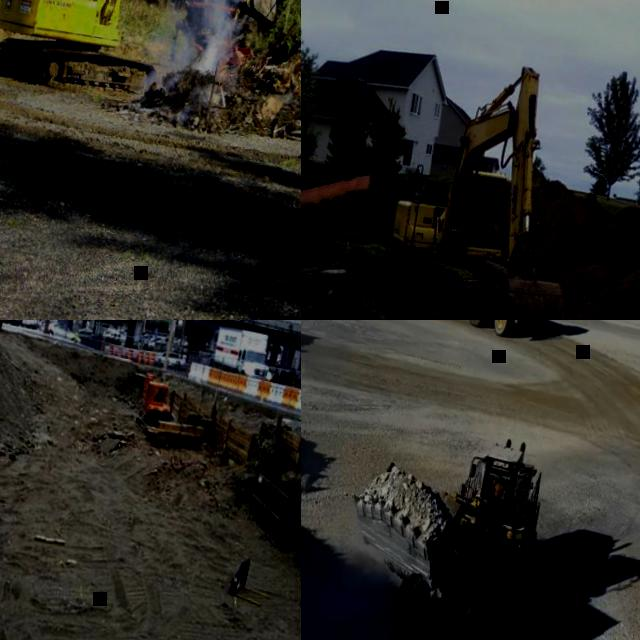helmet: (480, 183, 488, 190)
machinery: (345, 40, 608, 320), (320, 403, 563, 640), (0, 0, 301, 126), (130, 372, 212, 451), (451, 320, 554, 344)
no_helmet: (498, 478, 502, 483)
no_mask: (480, 192, 486, 198)
no_vest: (474, 196, 491, 216), (492, 485, 502, 500)
person: (470, 183, 500, 223), (488, 476, 507, 501)
safety_cone: (148, 354, 156, 366), (115, 346, 124, 356), (136, 350, 143, 362), (143, 352, 150, 364), (126, 349, 134, 359), (108, 344, 114, 354)
vehicle: (210, 324, 280, 382), (41, 320, 84, 343), (156, 349, 182, 369)
